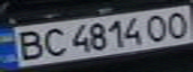1: (106, 17, 127, 48)
4: (121, 15, 148, 46), (66, 20, 90, 54)
8: (87, 19, 112, 52)
B: (9, 28, 48, 62)
C: (36, 26, 69, 59)
O: (142, 11, 175, 43), (160, 8, 193, 39)
